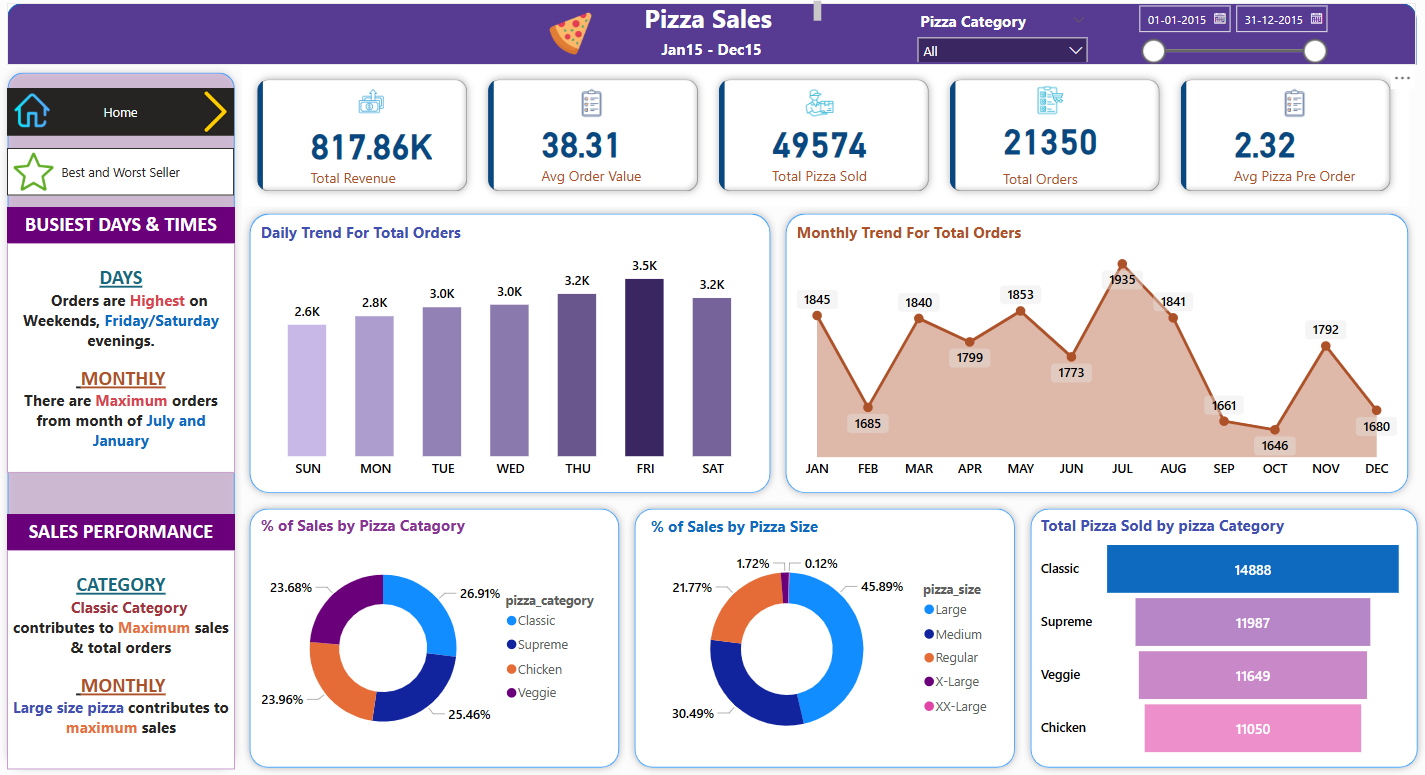

Layout of this report page (visuals, bound fields, positions):
{"tool":"powerbi","page":{"name":"Home","canvas":[1500,820],"ordinal":0},"visuals":[{"type":"shape","box":[0,72.4,255.1,748],"z":0},{"type":"cardVisual","fields":{"Data":["pizza_sales.Total Revenue","pizza_sales.Avg Order Value","pizza_sales.Total Pizza Sold","pizza_sales.Total Orders","pizza_sales.Avg Pizza Pre Order"]},"box":[255.1,71.4,1227.6,150],"z":1000},{"type":"shape","box":[7.1,7.1,1483.7,65.3],"z":2000},{"type":"textbox","box":[629.6,0,239.8,49],"z":3000},{"type":"textbox","box":[686.7,39.8,125.5,31.6],"z":4000},{"type":"image","box":[571.4,11.2,58.2,56.1],"z":5000},{"type":"textbox","box":[7.1,222.4,239.8,37.8],"z":6000},{"type":"shape","box":[255.1,221.4,564.3,310.2],"z":7000},{"type":"columnChart","title":"Daily Trend For Total Orders","fields":{"Category":["pizza_sales.Order Day"],"Y":["pizza_sales.Total Orders"]},"box":[269.4,237.8,535.7,277.6],"z":8000},{"type":"shape","box":[819.4,221.4,671.4,310.2],"z":9000},{"type":"areaChart","title":"Monthly Trend For Total Orders","fields":{"Category":["pizza_sales.Order Month"],"Y":["pizza_sales.Total Orders"]},"box":[833.7,237.8,641.8,277.6],"z":10000},{"type":"shape","box":[255.1,531.6,405.1,288.8],"z":11000},{"type":"shape","box":[660.2,531.6,416.3,288.8],"z":12000},{"type":"shape","box":[1076.5,531.6,423.5,288.8],"z":13000},{"type":"donutChart","title":"% of Sales by Pizza Catagory","fields":{"Category":["pizza_sales.pizza_category"],"Y":["pizza_sales.Total Revenue"]},"box":[269.4,545.9,376.5,259.2],"z":14000},{"type":"donutChart","title":"% of Sales by Pizza Size","fields":{"Category":["pizza_sales.pizza_size"],"Y":["pizza_sales.Total Revenue"]},"box":[679.6,546.9,376.5,259.2],"z":15000},{"type":"funnel","title":"Total Pizza Sold by pizza Category","fields":{"Category":["pizza_sales.pizza_category"],"Y":["pizza_sales.Total Pizza Sold"]},"box":[1090.8,545.9,391.8,260.2],"z":16000},{"type":"textbox","box":[7.1,260.2,239.8,241.8],"z":17000},{"type":"textbox","box":[7.1,544.9,239.8,37.8],"z":18000},{"type":"textbox","box":[7.1,582.7,239.8,230.6],"z":19000},{"type":"slicer","fields":{"Values":["pizza_sales.pizza_category"]},"box":[956.1,10.2,199,59.2],"z":20000},{"type":"slicer","fields":{"Values":["pizza_sales.order_date"]},"box":[1186.7,0,219.4,79.6],"z":21000},{"type":"pageNavigator","box":[7.1,96.9,239.8,50],"z":22000},{"type":"pageNavigator","box":[7.1,160.2,239.8,50],"z":23000},{"type":"image","box":[7.1,96.9,53.1,46.9],"z":24000},{"type":"image","box":[198,94.9,57.1,54.1],"z":25000},{"type":"image","box":[7.1,159.2,56.1,52],"z":26000}]}

Visuals, with their boxes in screenshot pixels (x1, y1, x2, y2), scaled from the page's 1500x820 canvas onto the 1425x775 screenshot:
shape: [0,68,242,774]
cardVisual - pizza_sales.Total Revenue x pizza_sales.Avg Order Value: [242,67,1409,209]
shape: [7,7,1416,68]
textbox: [598,0,826,46]
textbox: [652,38,772,67]
image: [543,11,598,64]
textbox: [7,210,235,246]
shape: [242,209,778,502]
"Daily Trend For Total Orders" columnChart: [256,225,765,487]
shape: [778,209,1416,502]
"Monthly Trend For Total Orders" areaChart: [792,225,1402,487]
shape: [242,502,627,774]
shape: [627,502,1023,774]
shape: [1023,502,1424,774]
"% of Sales by Pizza Catagory" donutChart: [256,516,614,761]
"% of Sales by Pizza Size" donutChart: [646,517,1003,762]
"Total Pizza Sold by pizza Category" funnel: [1036,516,1408,762]
textbox: [7,246,235,474]
textbox: [7,515,235,551]
textbox: [7,551,235,769]
slicer - pizza_sales.pizza_category: [908,10,1097,66]
slicer - pizza_sales.order_date: [1127,0,1336,75]
pageNavigator: [7,92,235,139]
pageNavigator: [7,151,235,199]
image: [7,92,57,136]
image: [188,90,242,141]
image: [7,150,60,200]
